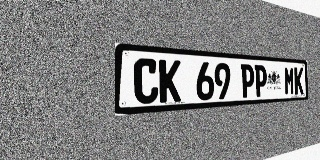6: (196, 61, 214, 101)
9: (214, 62, 230, 99)
C: (134, 58, 158, 104)
K: (159, 59, 181, 103), (294, 67, 303, 95)
M: (284, 66, 294, 95)
P: (241, 64, 254, 98), (254, 65, 267, 97)
